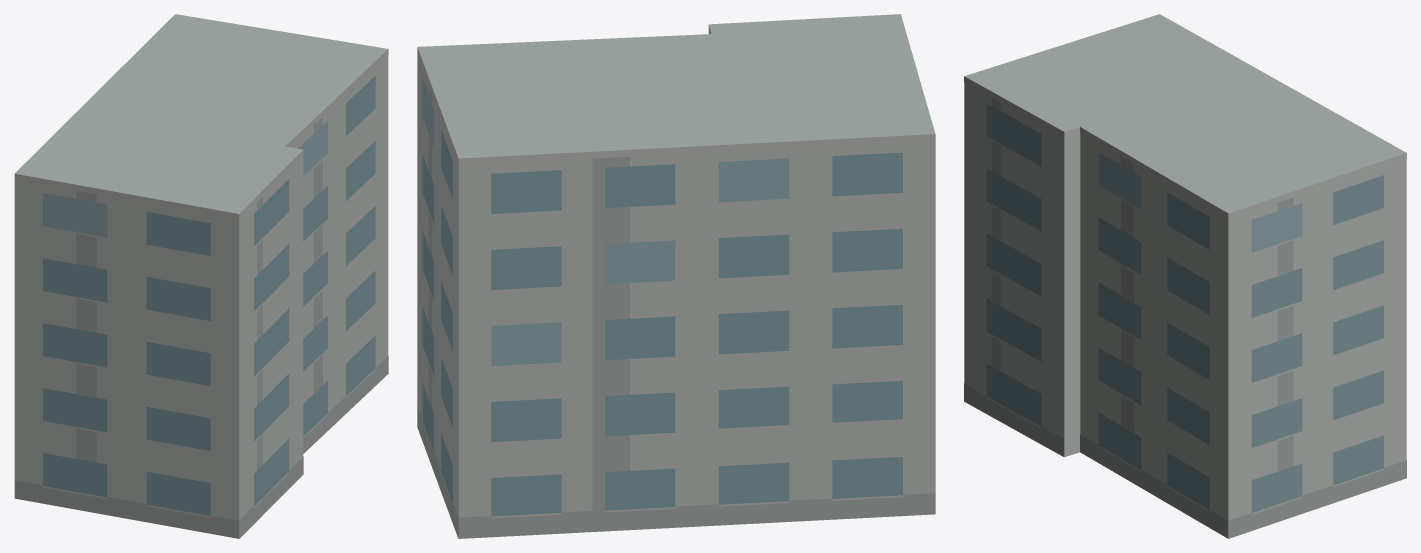
Rendered from survey-upis-32987220.glb.
3 renders of one model, left to right at view 1: azimuth 30°, elevation 25°; view 2: azimuth 150°, elevation 25°; view 3: azimuth 270°, elevation 25°, orthographic. The views are drawn at different scales.
Visible parts, largest first — view 1: survey-upis-32987220.tmp; view 2: survey-upis-32987220.tmp; view 3: survey-upis-32987220.tmp.
Boxes of the visible parts, box(x1,y1,x2,y2) form: survey-upis-32987220.tmp: box(14, 14, 388, 538); survey-upis-32987220.tmp: box(417, 14, 935, 538); survey-upis-32987220.tmp: box(964, 14, 1406, 538).
Bounding box in the file's own units: 17.37 × 13.2 × 16.28.
